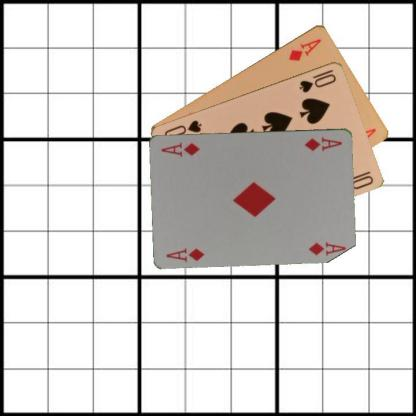10s: (296, 66, 338, 94)
Ad: (286, 36, 322, 62), (302, 134, 344, 152), (164, 245, 206, 263)
